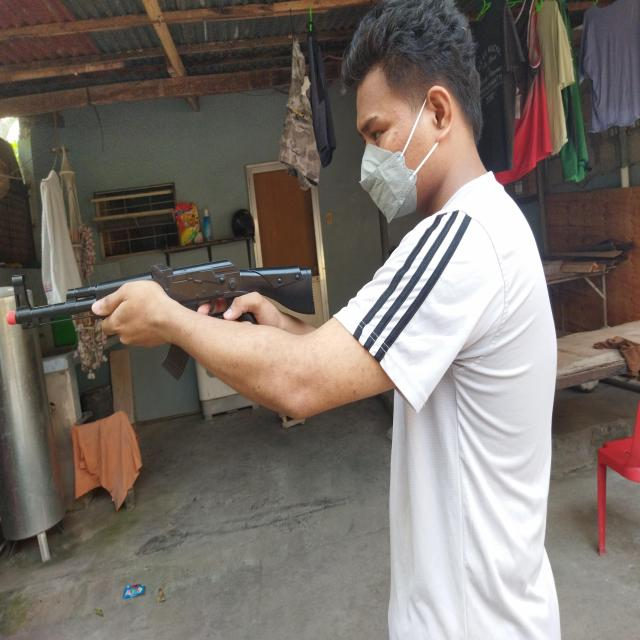rifle: (5, 254, 314, 379)
